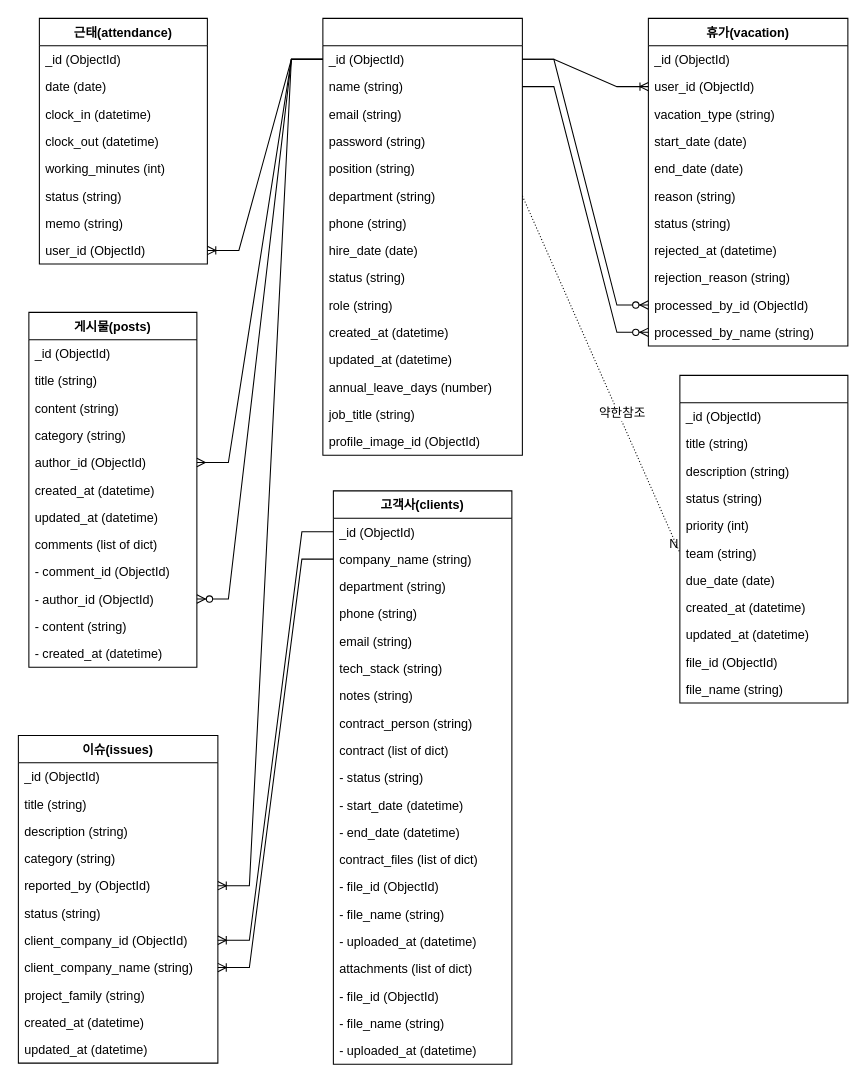
This 866x1086 diagram has some shape labels left out. Here are the shapes that lost their labels. From the top down, the box of each, then its label:
(322, 17, 522, 455): 사원정보(hr)
(679, 374, 848, 703): 업무(tasks)
